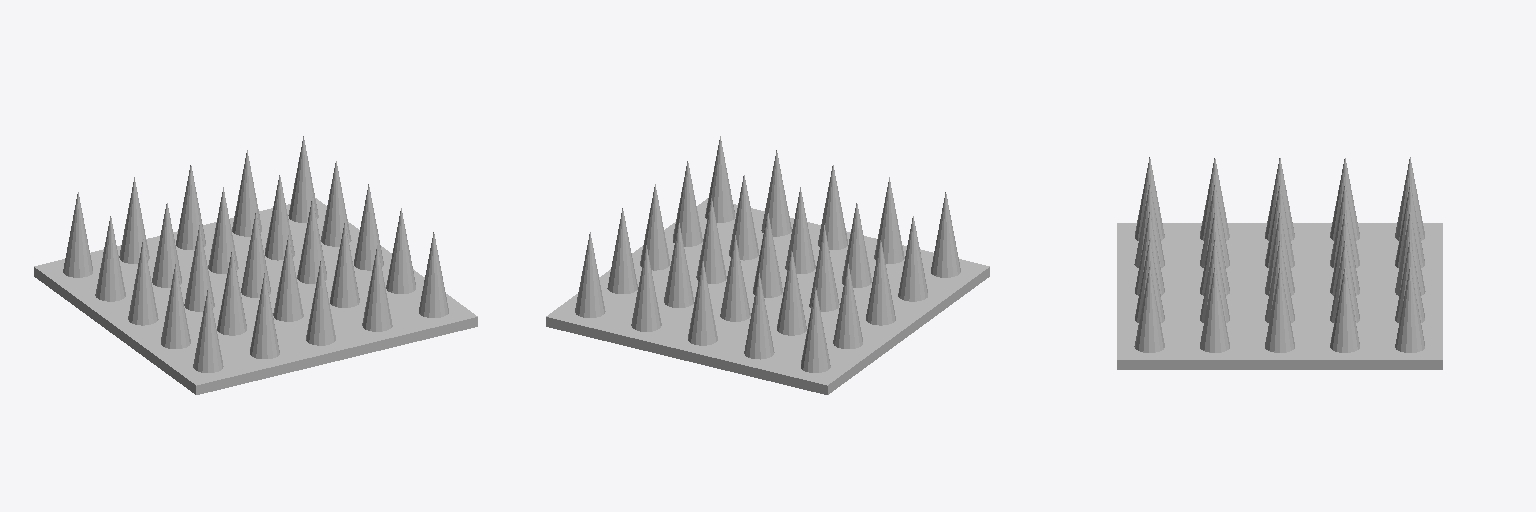
The model's file is Pincho1.obj.
3 renders of one model, left to right at view 1: azimuth 30°, elevation 25°; view 2: azimuth 150°, elevation 25°; view 3: azimuth 270°, elevation 25°, orthographic.
Parts seen in each view (by area): view 1: Pincho1; view 2: Pincho1; view 3: Pincho1.
Part boxes in pixels (x1,y1,x2,y2): Pincho1: (34,136,477,394); Pincho1: (546,136,989,394); Pincho1: (1117,157,1442,369).
Size of the model in its own units: 2.46 by 0.7592 by 2.46.